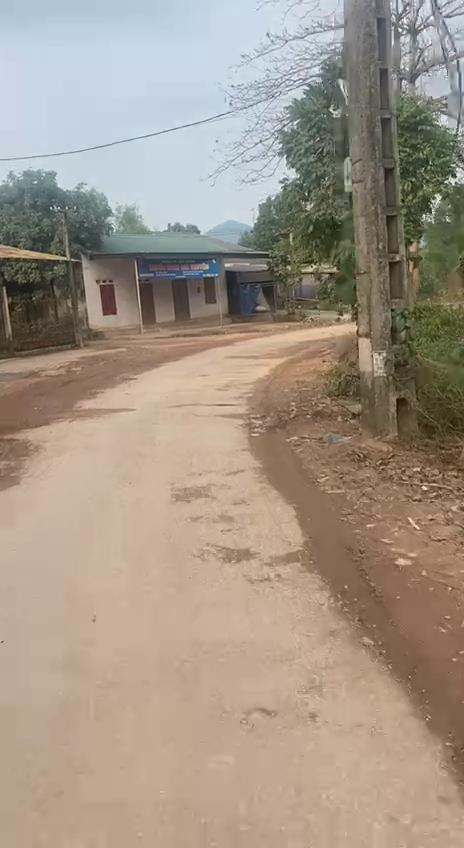pothole: (202, 542, 259, 568), (169, 482, 218, 504)
